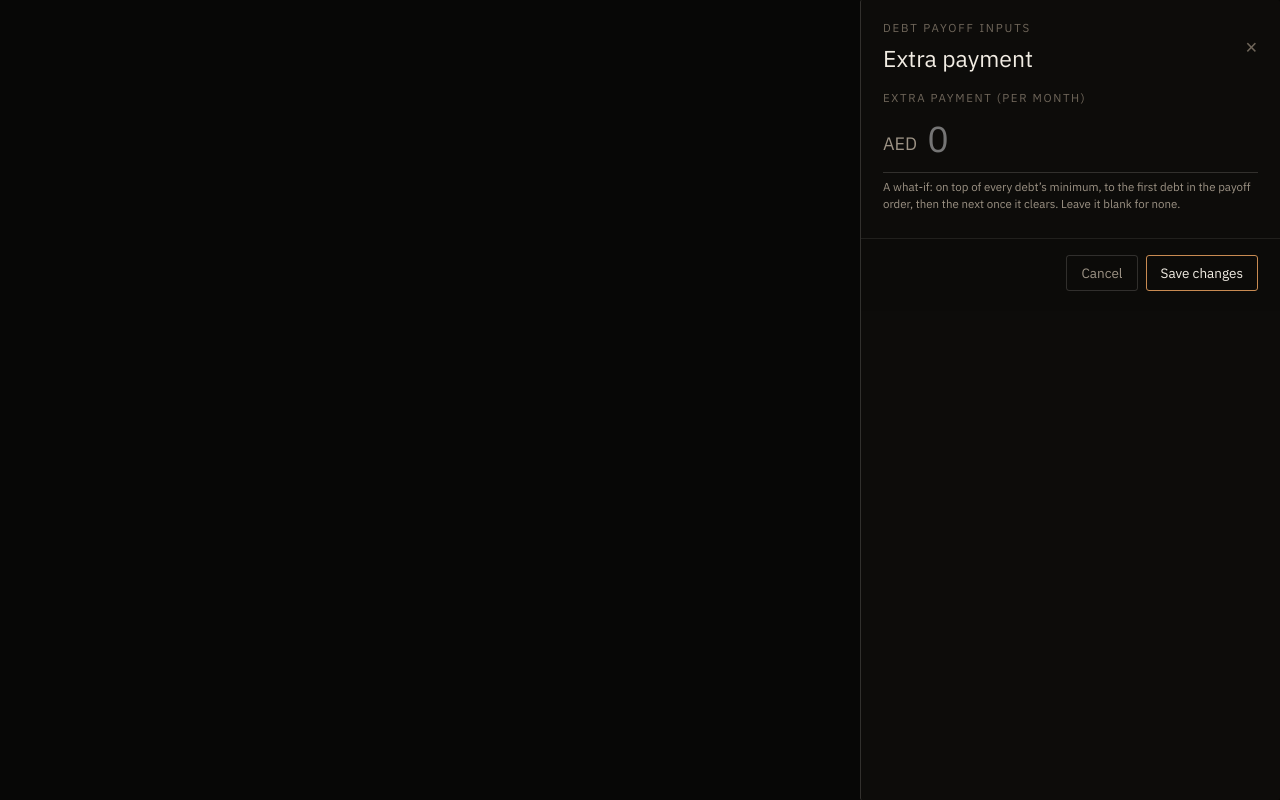
Test: DebtPlanEditor › refuses a negative extra payment
In the number field named "Extra payment, AED a month": (1093, 138) [927,115,1258,162], type "-200"
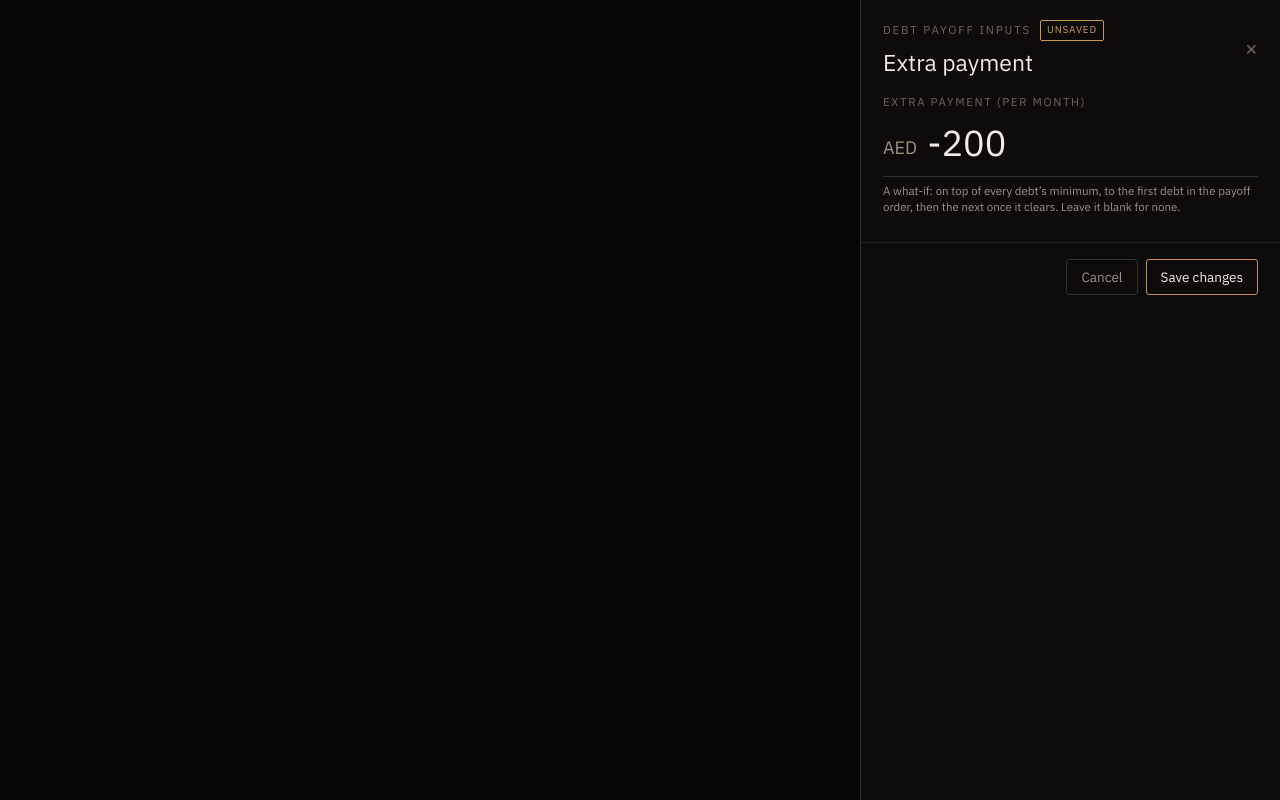
Click the button "Save changes": (1202, 277) [1146,259,1258,295]
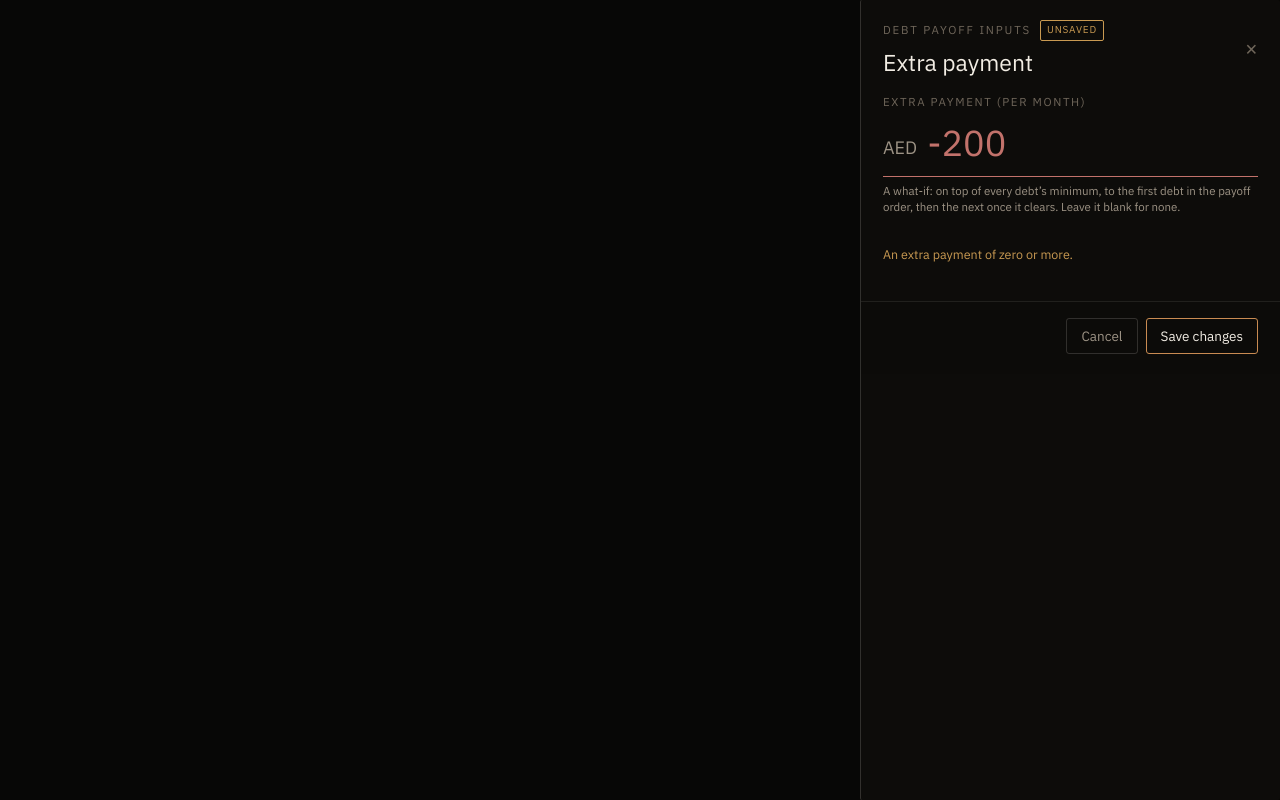
Now the message reads "An extra payment of zero or more.", box [883,246,1073,262]
